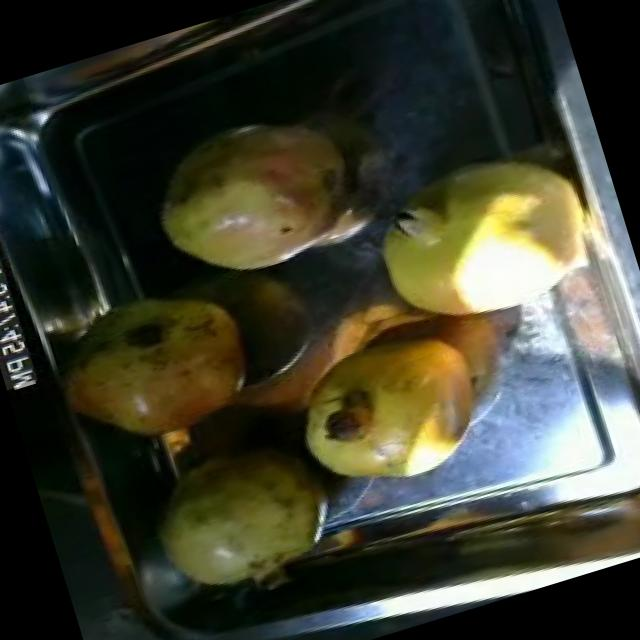fruit: (338, 115, 622, 362), (30, 253, 283, 481), (131, 89, 385, 307), (271, 295, 517, 509), (127, 421, 350, 618)
